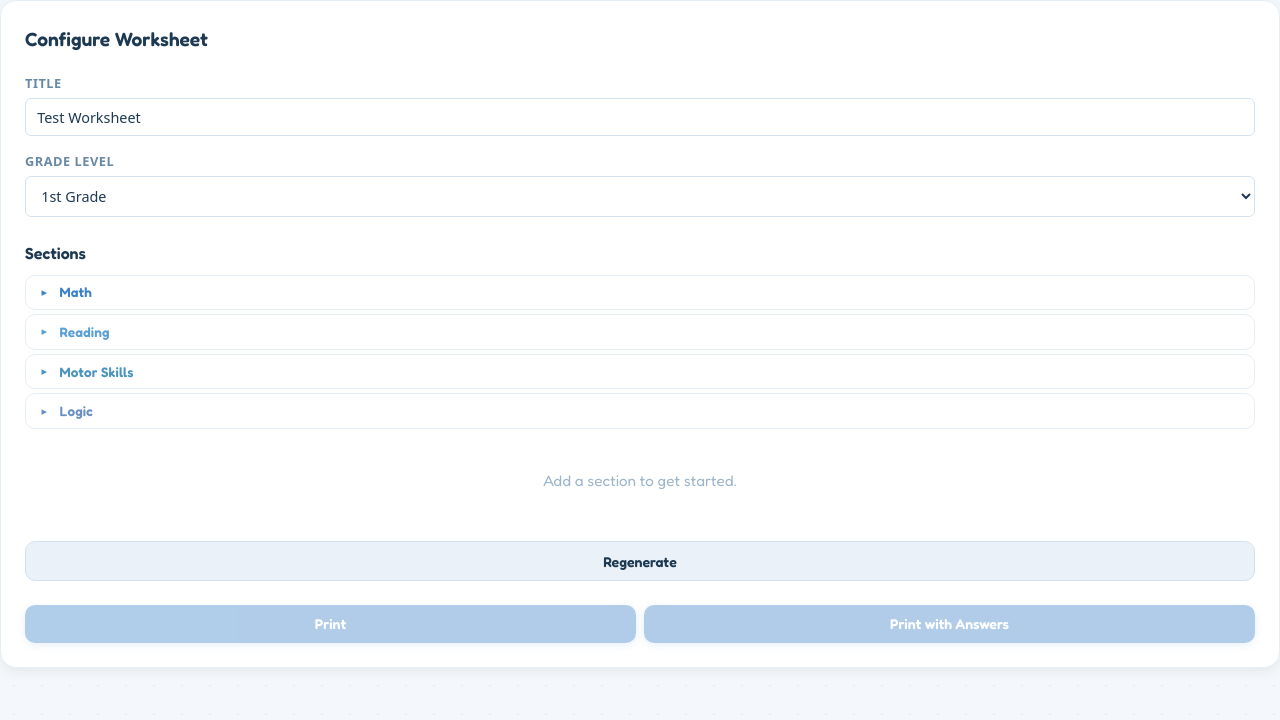
it: ConfigPanel › shows all math subtypes when Math category is expanded
The width and height of the screenshot is (1280, 720).
Click the text "Math": [76, 292] box [60,284,92,300]
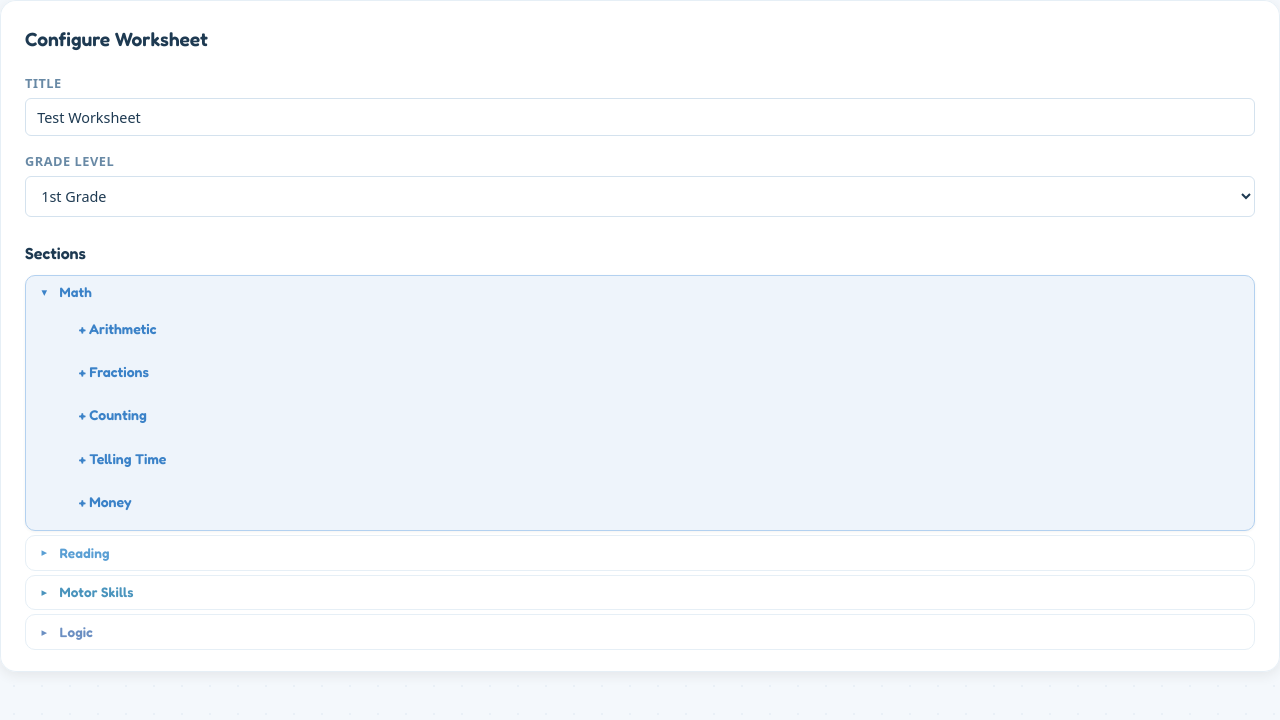
Check: the button "+ Arithmetic" is shown, box [60,309,176,347]
Check: the button "+ Fractions" is shown, box [60,352,168,390]
Check: the button "+ Counting" is shown, box [60,396,166,434]
